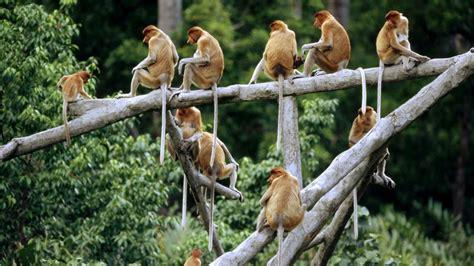monkey: (117, 25, 178, 164), (169, 26, 223, 166), (188, 130, 244, 250), (250, 20, 298, 150), (376, 10, 429, 121), (257, 164, 305, 266), (296, 10, 350, 77), (57, 70, 90, 144)
